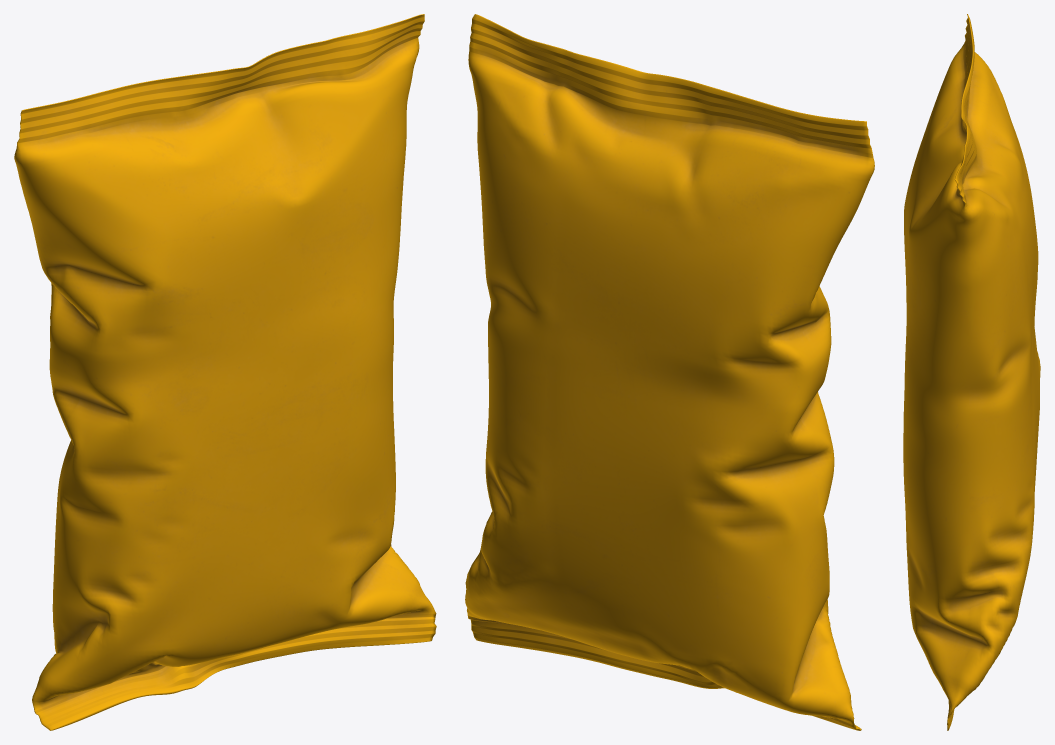
Rendered from chips-bag.obj.
The picture shows the model from 3 angles, left to right: view 1: azimuth 30°, elevation 25°; view 2: azimuth 150°, elevation 25°; view 3: azimuth 270°, elevation 25°; orthographic projection. The views are drawn at different scales.
Parts seen in each view (by area): view 1: bag; view 2: bag; view 3: bag.
Boxes of the visible parts, bbox=[...] form: bag: bbox=[14, 14, 436, 730]; bag: bbox=[465, 14, 874, 730]; bag: bbox=[903, 14, 1040, 730].
Size of the model in its own units: 0.0823 by 0.1192 by 0.0269.
Materials: 1 (1 with a texture image).
